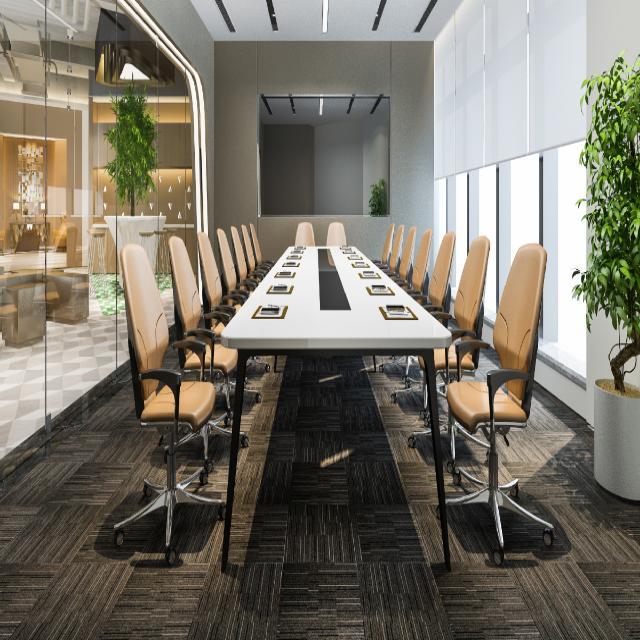chair: (435, 242, 554, 566), (113, 242, 226, 566), (408, 236, 490, 448), (168, 235, 248, 450), (196, 232, 264, 402), (390, 232, 456, 402), (248, 221, 274, 271), (369, 222, 395, 267), (326, 221, 347, 247), (294, 221, 315, 247)
